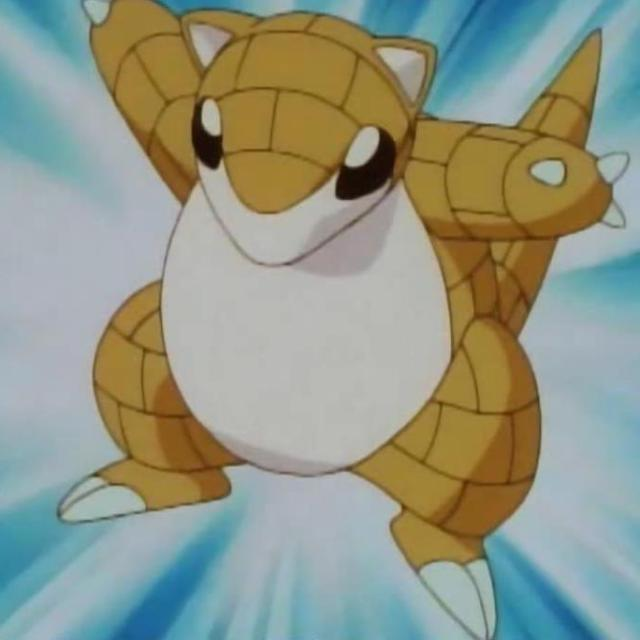Sandshrew: (88, 21, 600, 516)
